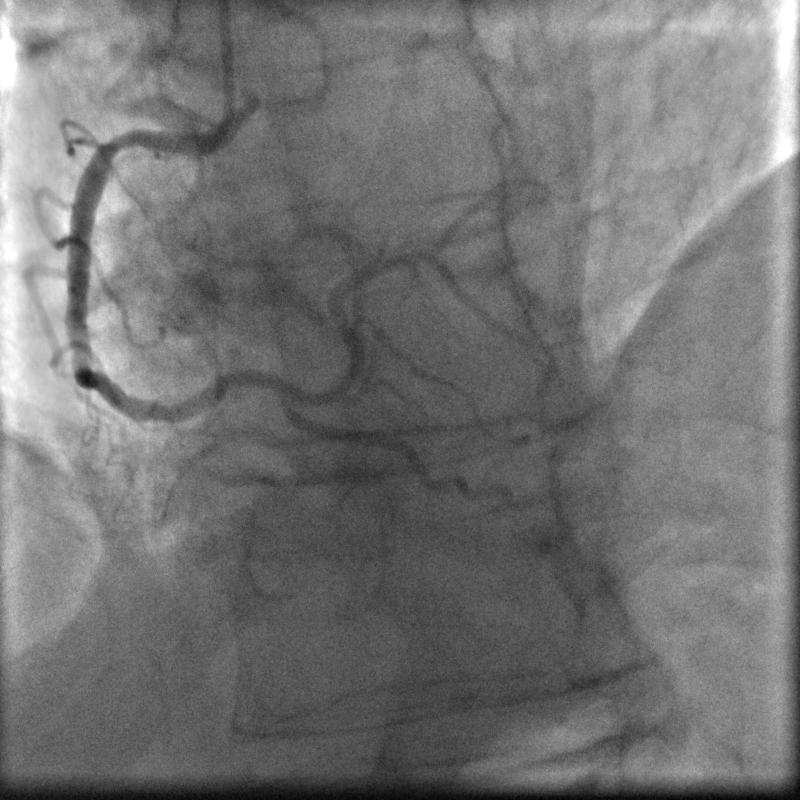Stenosis: (89, 124, 147, 157)
